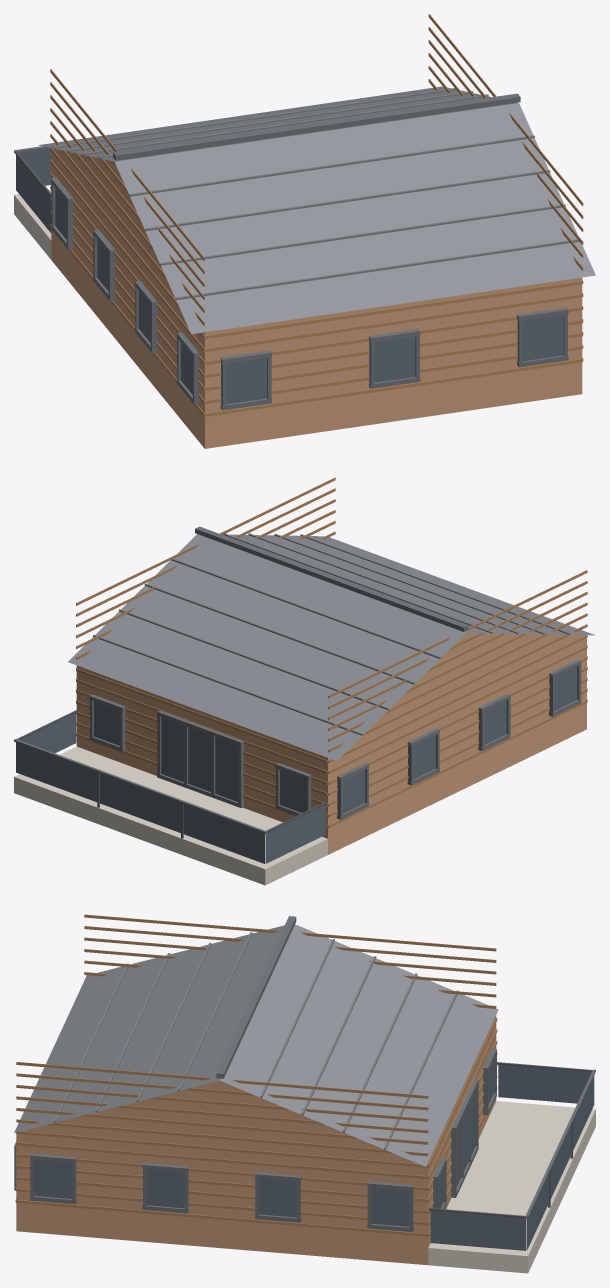
The picture shows the model from 3 angles, top to bottom: view 1: azimuth 30°, elevation 25°; view 2: azimuth 150°, elevation 25°; view 3: azimuth 270°, elevation 25°; orthographic projection. The views are drawn at different scales.
Visible parts, largest first — view 1: slate_lt, timber_stain, timber_stain_dk, slate_dk, slate, window_glass_016, window_glass_017, window_glass_015, window_glass_005, deck_grey, window_glass_003; view 2: slate_lt, timber_stain, timber_stain_dk, slate_dk, deck_grey, slate, window_glass_003, window_glass_001, window_glass_002, window_glass_005, window_glass_008, window_glass_006 (+9 smaller); view 3: slate_lt, timber_stain, timber_stain_dk, deck_grey, slate_dk, slate, window_glass_004, window_glass_005, window_glass_019, window_glass_021, window_glass_018, window_glass_020 (+4 smaller).
Boxes of the visible parts, x1,y1,x2,y2 form: slate_lt: [38, 86, 595, 334]; timber_stain: [51, 149, 582, 448]; timber_stain_dk: [50, 14, 583, 416]; slate_dk: [14, 93, 568, 410]; slate: [52, 88, 579, 300]; window_glass_016: [374, 336, 415, 382]; window_glass_017: [523, 315, 563, 361]; window_glass_015: [226, 358, 266, 404]; window_glass_005: [16, 155, 51, 232]; deck_grey: [14, 189, 51, 259]; window_glass_003: [19, 148, 51, 185]; slate_lt: [68, 534, 594, 760]; timber_stain: [76, 633, 586, 854]; timber_stain_dk: [76, 477, 587, 828]; slate_dk: [14, 526, 581, 833]; deck_grey: [14, 746, 327, 885]; slate: [93, 533, 570, 735]; window_glass_003: [183, 804, 264, 863]; window_glass_001: [16, 742, 97, 802]; window_glass_002: [100, 773, 180, 832]; window_glass_005: [265, 804, 325, 863]; window_glass_008: [215, 737, 238, 801]; window_glass_006: [161, 717, 184, 781]; slate_lt: [14, 924, 498, 1166]; timber_stain: [16, 1015, 496, 1265]; timber_stain_dk: [15, 914, 497, 1236]; deck_grey: [428, 1101, 595, 1273]; slate_dk: [14, 916, 595, 1231]; slate: [54, 932, 458, 1149]; window_glass_004: [430, 1210, 526, 1250]; window_glass_005: [498, 1064, 591, 1103]; window_glass_019: [146, 1169, 184, 1208]; window_glass_021: [371, 1187, 409, 1226]; window_glass_018: [34, 1160, 71, 1198]; window_glass_020: [259, 1178, 296, 1217].
Bounding box in the file's own units: 10.87 × 4.69 × 13.76.
